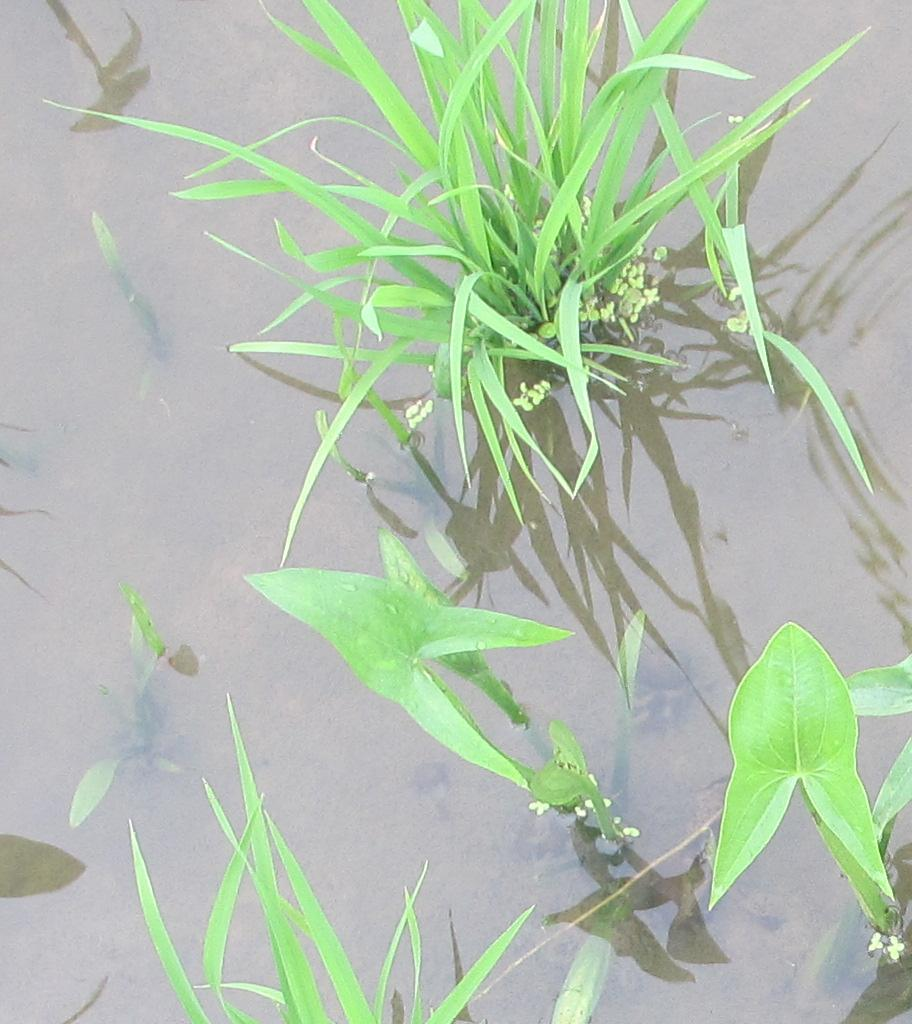Weed: (239, 561, 580, 792), (717, 607, 888, 922)
